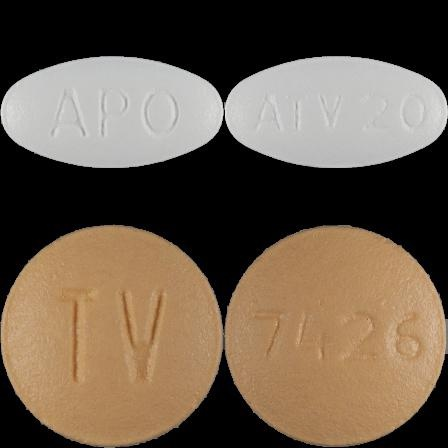66116-498: (0, 0, 224, 224)
